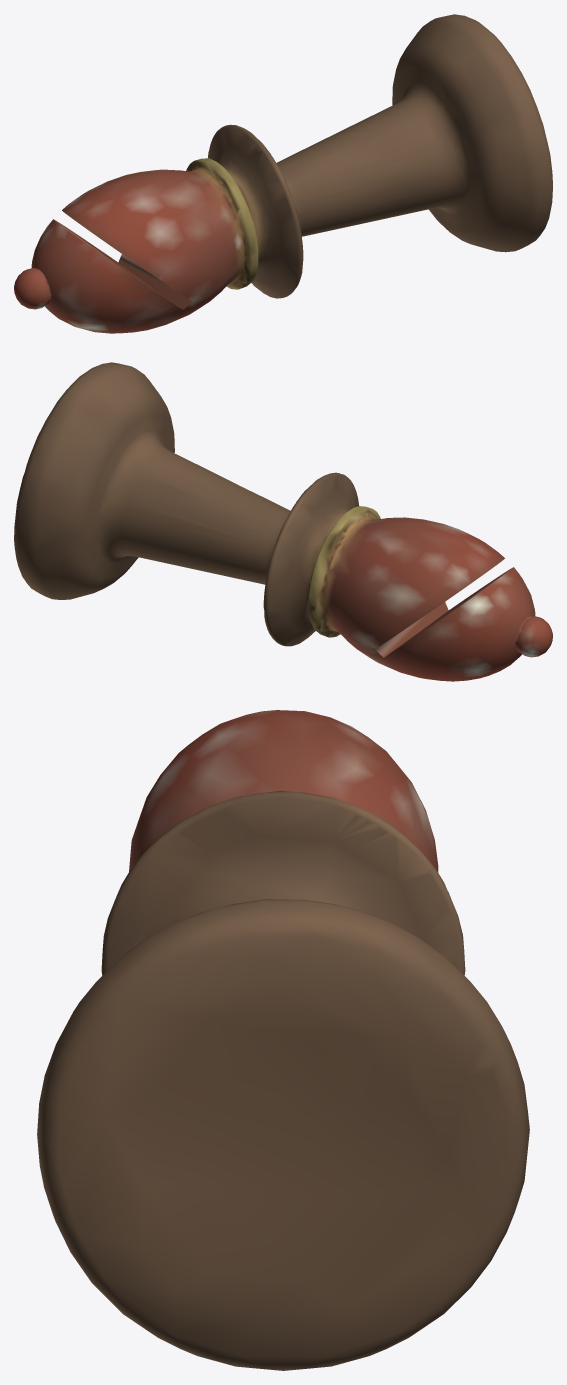
File: bishop-dark-fallen.glb
The picture shows the model from 3 angles, top to bottom: view 1: azimuth 30°, elevation 25°; view 2: azimuth 150°, elevation 25°; view 3: azimuth 270°, elevation 25°; orthographic projection. The views are drawn at different scales.
Visible parts, largest first — view 1: body; view 2: body; view 3: body.
Part boxes in pixels (box(x1,y1,x2,y2)): body: box(14, 14, 552, 333); body: box(14, 362, 552, 681); body: box(37, 710, 529, 1370).
Bounding box in the file's own units: 4.67 × 2.03 × 2.04.
